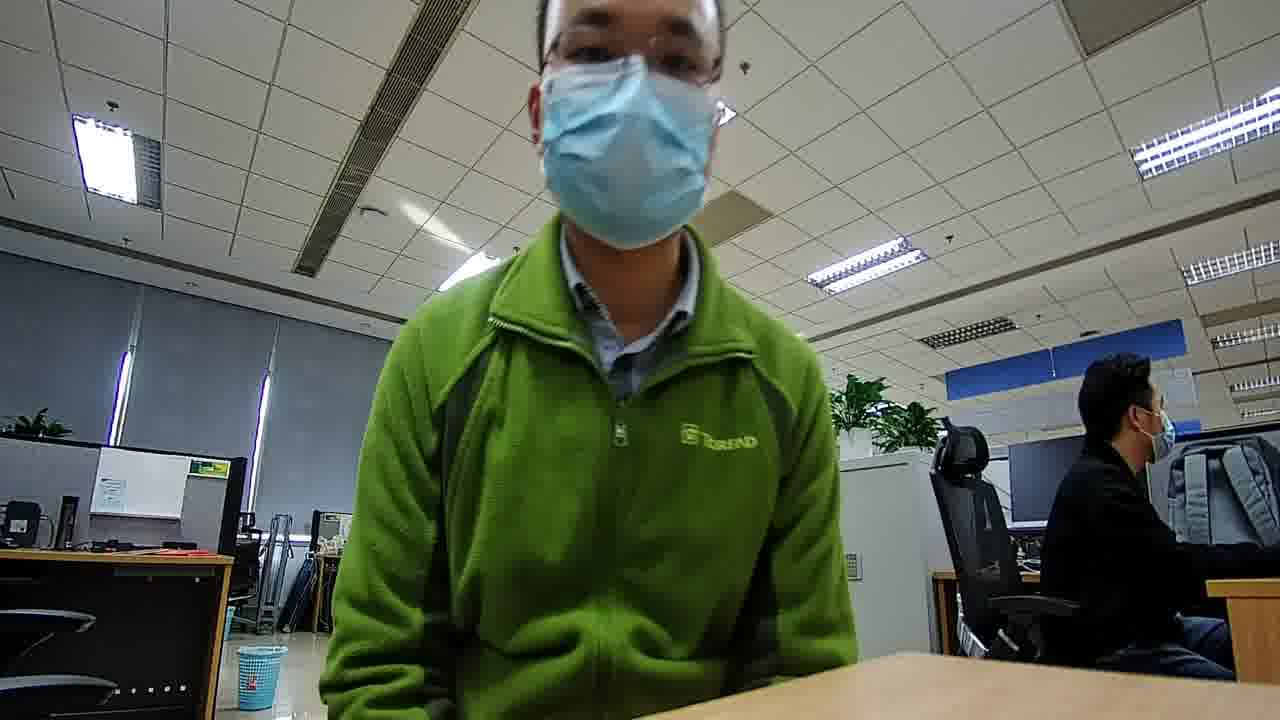face: (544, 4, 727, 246), (1139, 381, 1177, 464)
mask: (543, 57, 716, 250), (1148, 410, 1177, 458)
person: (394, 1, 813, 370), (1052, 356, 1178, 524)
